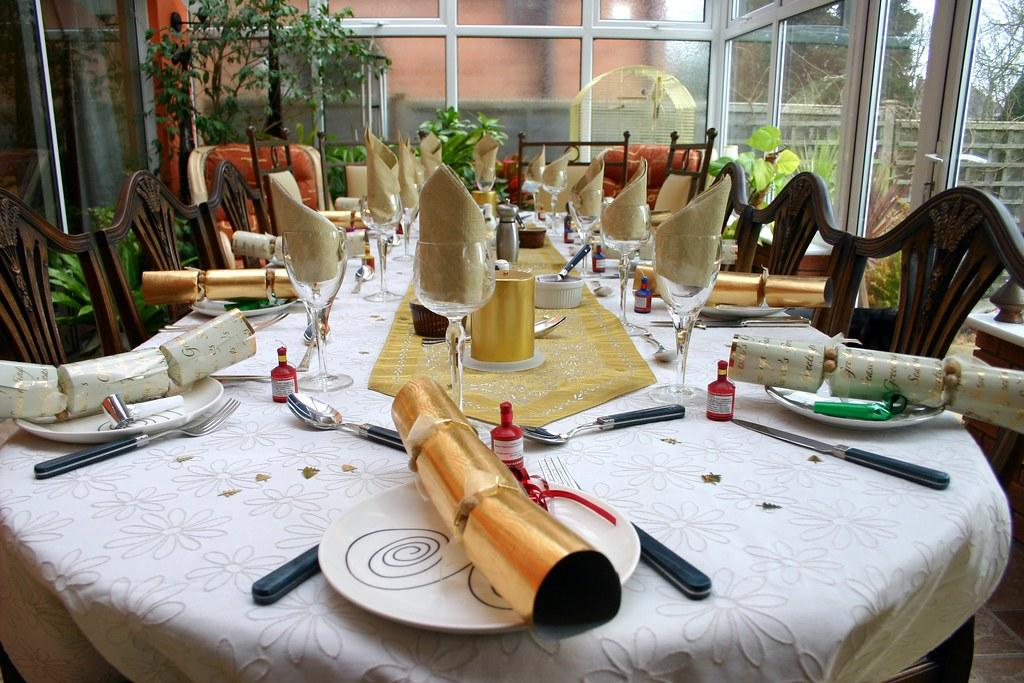table: (1, 206, 1016, 682)
